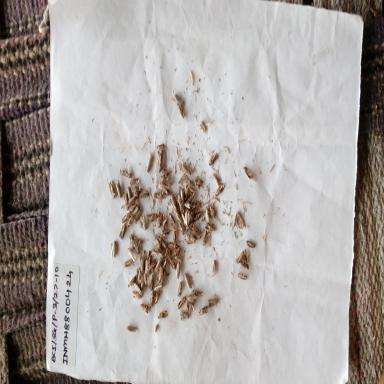pbw: (181, 206, 194, 228), (169, 87, 184, 106), (174, 273, 186, 296), (104, 179, 116, 201), (131, 234, 144, 254), (198, 116, 210, 137), (127, 193, 139, 213), (128, 230, 140, 250), (118, 220, 128, 243), (166, 209, 178, 228), (126, 321, 140, 337), (203, 205, 214, 225), (168, 190, 178, 212), (208, 147, 219, 167), (174, 260, 184, 281), (174, 220, 186, 237), (146, 258, 156, 278), (178, 305, 189, 323), (190, 222, 201, 240), (114, 178, 123, 200), (193, 172, 205, 188), (156, 138, 168, 154), (155, 210, 165, 229), (145, 267, 155, 286), (145, 248, 154, 269), (159, 245, 171, 260), (182, 271, 192, 289), (132, 180, 142, 198), (207, 201, 216, 221), (139, 212, 148, 231), (212, 171, 222, 188), (170, 246, 182, 260), (156, 307, 168, 321), (207, 295, 219, 309), (237, 246, 245, 267), (132, 281, 144, 295), (120, 166, 132, 180), (159, 175, 174, 186), (127, 247, 138, 262), (214, 182, 225, 197), (186, 180, 197, 195), (160, 215, 169, 233), (176, 294, 186, 310), (182, 162, 192, 178), (148, 209, 158, 225), (138, 250, 146, 270), (238, 210, 246, 230), (237, 270, 250, 282), (121, 258, 134, 270), (151, 233, 163, 246), (198, 305, 209, 319), (159, 166, 170, 180), (243, 166, 254, 180), (146, 152, 153, 173), (210, 258, 218, 276), (184, 234, 196, 246), (192, 287, 205, 298), (192, 208, 202, 222), (111, 239, 118, 259), (127, 274, 137, 288), (149, 289, 157, 306), (202, 230, 210, 247), (159, 270, 167, 287), (179, 185, 186, 204), (204, 222, 216, 233), (132, 203, 142, 216), (159, 190, 172, 200), (126, 212, 134, 228), (157, 148, 164, 166), (234, 210, 240, 231), (123, 190, 129, 211), (176, 193, 184, 208), (136, 267, 142, 287), (177, 173, 187, 185), (246, 237, 256, 249), (140, 300, 148, 315), (166, 240, 178, 250), (129, 176, 139, 188), (151, 282, 161, 294), (154, 257, 162, 272), (186, 301, 195, 314), (160, 180, 168, 194), (168, 256, 176, 270), (174, 208, 182, 222), (126, 185, 133, 201), (158, 160, 166, 174), (160, 236, 168, 250), (131, 290, 142, 300), (241, 260, 251, 271), (188, 293, 198, 304), (151, 247, 162, 257), (157, 265, 163, 283), (158, 230, 170, 239), (121, 212, 130, 224), (142, 272, 148, 288), (184, 183, 190, 199), (154, 289, 160, 305), (140, 189, 148, 201), (192, 200, 200, 212), (172, 225, 177, 242), (183, 200, 191, 210), (187, 192, 195, 202), (140, 271, 144, 290)
